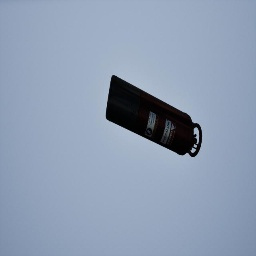NitrogenTank ,: (106, 75, 202, 157)
